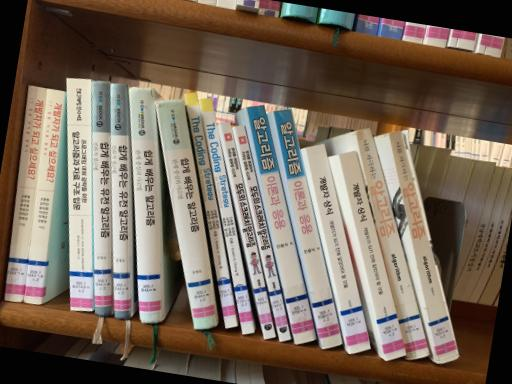book-spine: (355, 127, 429, 360), (272, 108, 342, 349), (246, 105, 316, 344), (388, 130, 457, 364), (338, 150, 406, 361), (156, 99, 217, 330), (305, 144, 370, 354), (199, 98, 254, 334), (233, 125, 290, 341), (185, 92, 237, 327), (219, 122, 275, 339), (3, 85, 46, 302), (22, 88, 64, 304), (129, 87, 164, 323), (66, 78, 92, 311), (91, 80, 112, 316), (110, 83, 131, 319)
